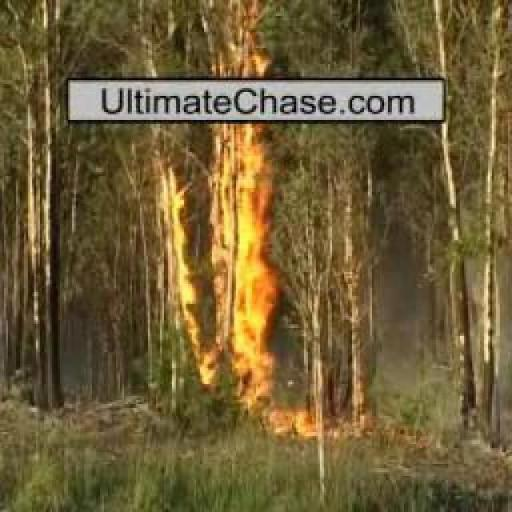smoke: (162, 121, 281, 390), (213, 12, 262, 74), (268, 408, 318, 438)
